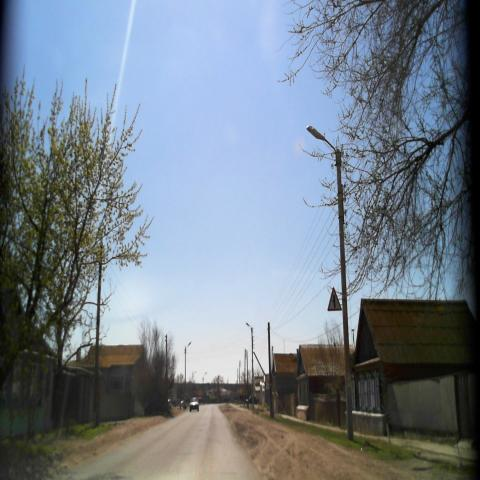2_3_3: (326, 286, 342, 310)
